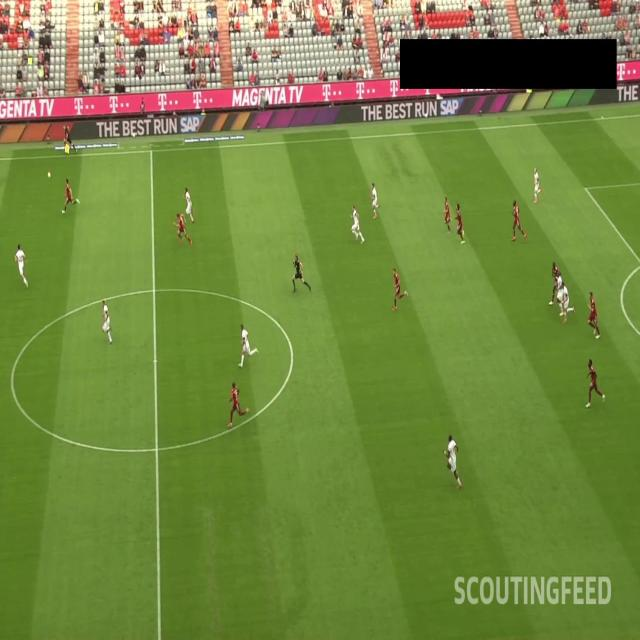ball: (46, 169, 52, 181)
player: (227, 379, 250, 427), (442, 434, 462, 489), (586, 357, 605, 408), (239, 324, 259, 368), (391, 266, 409, 311), (172, 210, 192, 248), (510, 198, 527, 242), (61, 177, 80, 216), (587, 290, 601, 340), (14, 244, 29, 290), (452, 202, 468, 245), (561, 280, 576, 322), (350, 204, 365, 245), (550, 258, 562, 307), (101, 299, 113, 345), (369, 180, 382, 220), (555, 270, 565, 318), (532, 168, 545, 204), (184, 185, 195, 226), (442, 195, 453, 235)
referee: (291, 252, 311, 294), (62, 122, 77, 155)
